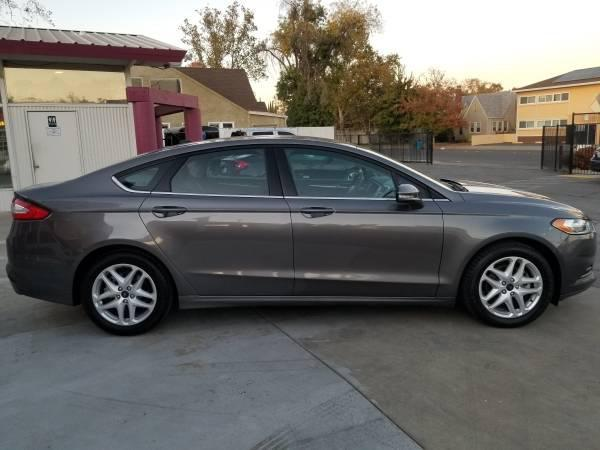Front_Bumper: (556, 232, 597, 301)
Front_Fender: (439, 192, 591, 301)
Front_Right_Door: (286, 196, 445, 297)
Front_Right_Window: (270, 140, 438, 199)
Hood: (440, 176, 580, 212)
Rear_Bumper: (5, 218, 78, 308)
Rear_Fender: (22, 145, 181, 257)
Rear_Right_Door: (138, 190, 295, 305)
Rear_Right_Window: (151, 139, 282, 192)
Right_Headlight: (550, 217, 593, 233)
Right_Taillight: (11, 195, 49, 220)
Wheel: (468, 240, 558, 328), (80, 250, 168, 334)
